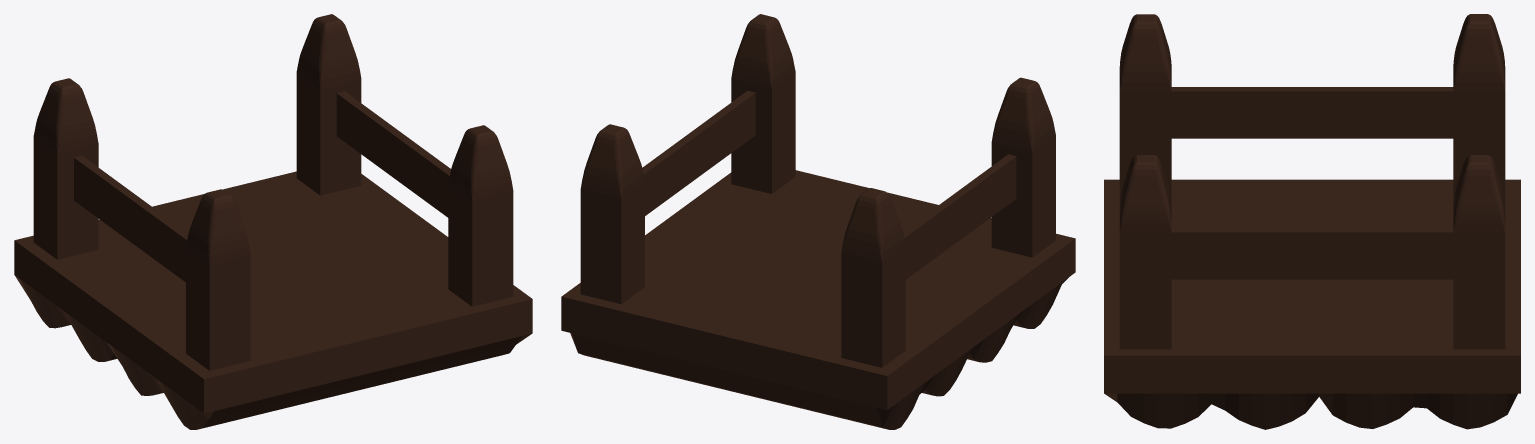
File: bridge.obj
The picture shows the model from 3 angles, left to right: view 1: azimuth 30°, elevation 25°; view 2: azimuth 150°, elevation 25°; view 3: azimuth 270°, elevation 25°; orthographic projection. The views are drawn at different scales.
Parts seen in each view (by area): view 1: bridge_tile, Cube.004, Cube.005, Cube.003, Cube.006, Cube.007, Cube.010; view 2: bridge_tile, Cube.006, Cube.003, Cube.004, Cube.005, Cube.010, Cube.007; view 3: bridge_tile, Cube.007, Cube.010, Cube.003, Cube.004, Cube.006, Cube.005.
Part boxes in pixels (x1,y1,x2,y2): bridge_tile: [14, 171, 532, 429]; Cube.004: [448, 125, 513, 306]; Cube.005: [186, 189, 250, 370]; Cube.003: [296, 14, 361, 195]; Cube.006: [33, 78, 98, 259]; Cube.007: [336, 91, 450, 217]; Cube.010: [74, 155, 188, 282]; bridge_tile: [561, 170, 1075, 429]; Cube.006: [841, 188, 905, 367]; Cube.003: [580, 124, 644, 304]; Cube.004: [731, 14, 795, 193]; Cube.005: [991, 77, 1055, 257]; Cube.010: [903, 154, 1016, 279]; Cube.007: [642, 90, 755, 215]; bridge_tile: [1104, 179, 1520, 429]; Cube.007: [1171, 228, 1453, 279]; Cube.010: [1171, 87, 1453, 138]; Cube.003: [1453, 155, 1505, 349]; Cube.004: [1119, 155, 1171, 349]; Cube.006: [1453, 14, 1505, 206]; Cube.005: [1119, 14, 1171, 206].
Size of the model in its own units: 2 by 1.37 by 2.
